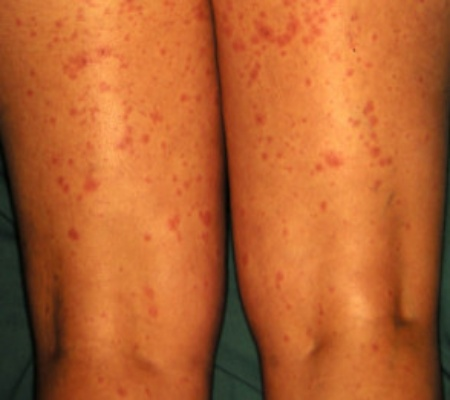SJS-TEN: (0, 0, 272, 400), (219, 0, 432, 256)
